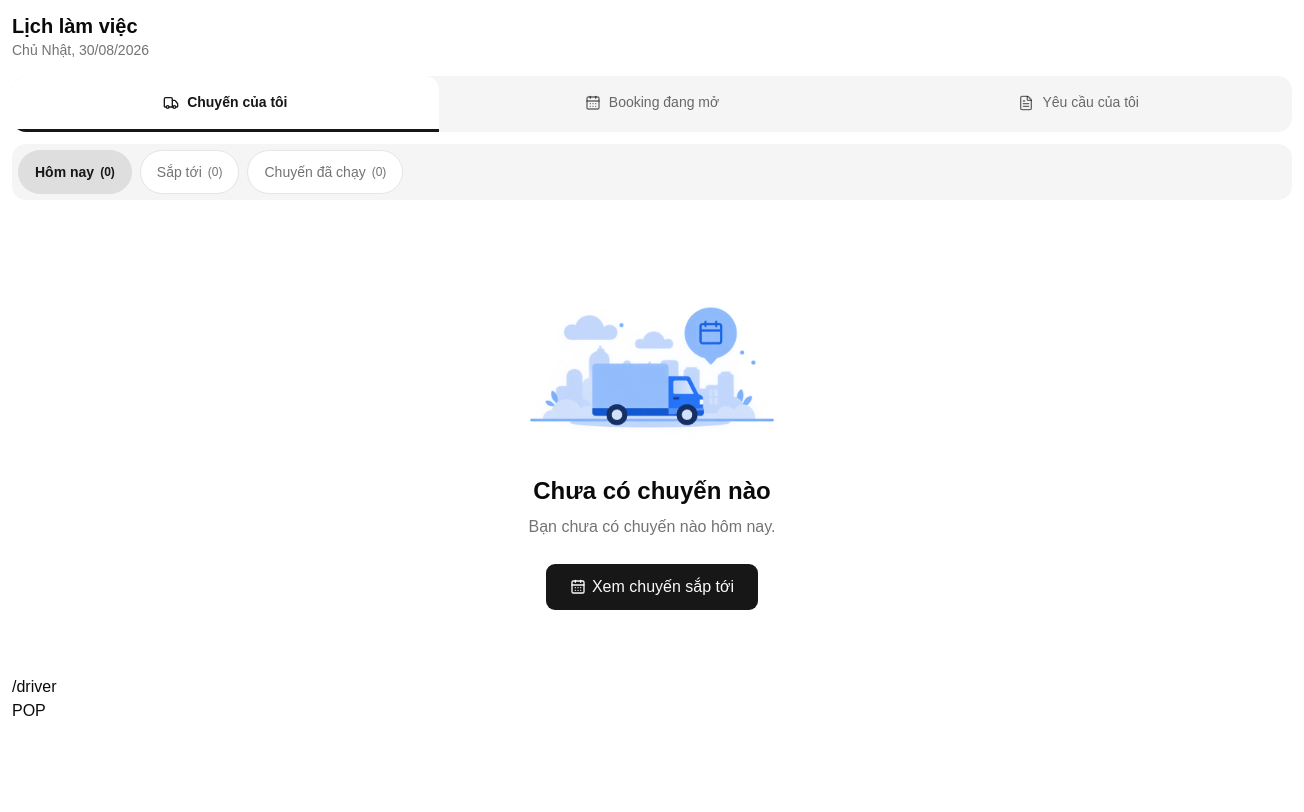
Test: ★ the work schedule — the tabs themselves › ★ nothing to drive › ★ the way out of today is tomorrow — and it lands on the tab, not a new page
This screenshot has width=1304, height=812.
Click the button "Xem chuyến sắp tới".
click(652, 587)  # box [545,563,759,611]
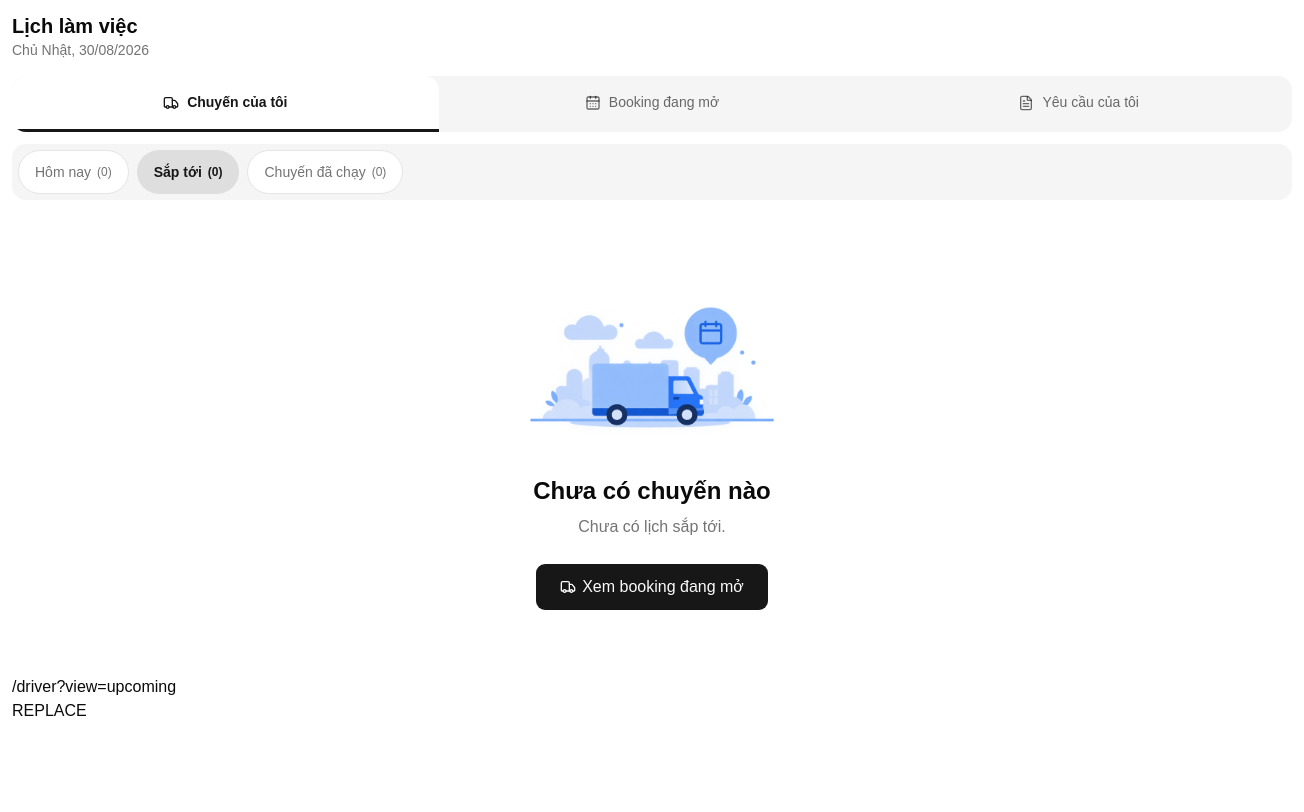
Check: the text with test id "location" reads "/driver?view=upcoming", box [12,678,176,695]
